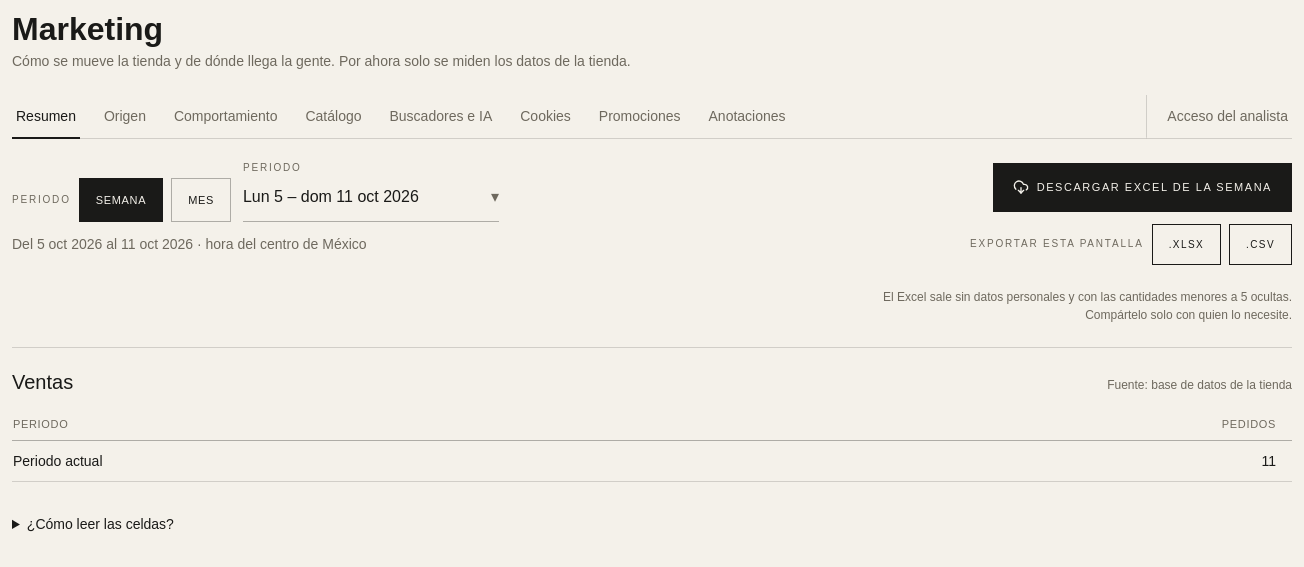
Test: UX-MKT-10 · 403 sin permiso › 403 a media sesión (en una descarga) descarta lo que había en pantalla
Check: the element with test id "mkt-screen-a" is shown, box x1=12 y1=347 x2=1292 y2=550
Click the button with test id "mkt-download-weekly". click: [1142, 187]
box: x1=993 y1=163 x2=1292 y2=212
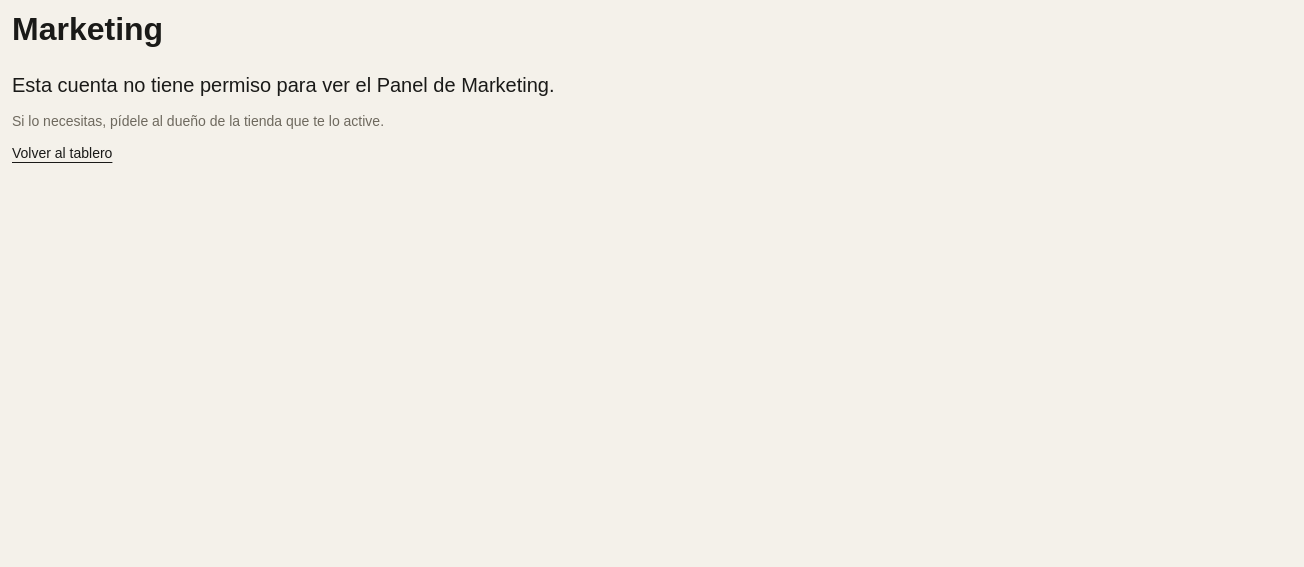
Check: the element with test id "mkt-forbidden" is shown, box x1=12 y1=74 x2=554 y2=161
Check: the element with test id "mkt-screen-a" is gone
Check: the tab is gone
